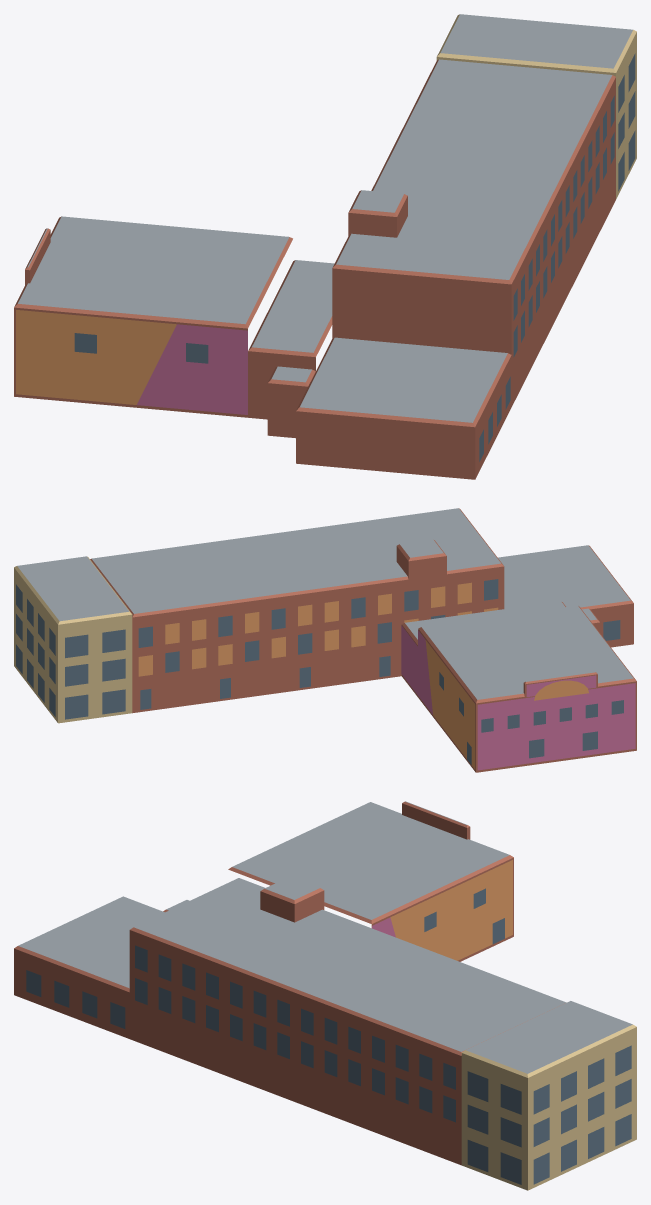
File: detail.glb
3 renders of one model, top to bottom at view 1: azimuth 30°, elevation 25°; view 2: azimuth 150°, elevation 25°; view 3: azimuth 270°, elevation 25°, orthographic. The views are drawn at different scales.
Visible parts, largest first — view 1: dilworth-artisan-station; view 2: dilworth-artisan-station; view 3: dilworth-artisan-station.
Part boxes in pixels (x1=…): dilworth-artisan-station: x1=14, y1=14, x2=636, y2=479; dilworth-artisan-station: x1=14, y1=508, x2=636, y2=772; dilworth-artisan-station: x1=14, y1=801, x2=636, y2=1190.
Bounding box in the file's own units: 79.33 × 15.9 × 67.65.
